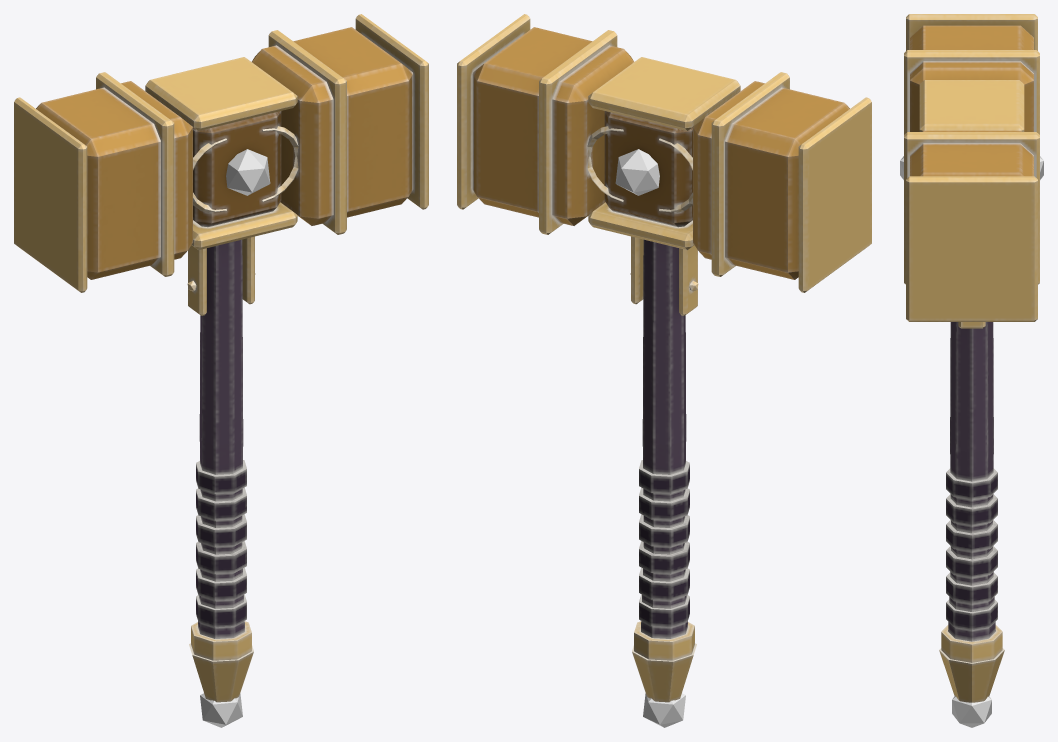
File: TitanHammerPickaxe.glb
3 renders of one model, left to right at view 1: azimuth 30°, elevation 25°; view 2: azimuth 150°, elevation 25°; view 3: azimuth 270°, elevation 25°, orthographic. The views are drawn at different scales.
Visible parts, largest first — view 1: Body__Tex, Head__Gem; view 2: Body__Tex, Head__Gem; view 3: Body__Tex, Head__Gem.
Part boxes in pixels (x1=…): Body__Tex: x1=14, y1=14, x2=428, y2=702; Head__Gem: x1=200, y1=149, x2=270, y2=727; Body__Tex: x1=457, y1=14, x2=871, y2=702; Head__Gem: x1=615, y1=149, x2=685, y2=727; Body__Tex: x1=904, y1=14, x2=1039, y2=702; Head__Gem: x1=900, y1=156, x2=1043, y2=727.
Bounding box in the file's own units: 2.34 × 4.15 × 0.8523.
Materials: 1 (1 with a texture image).
